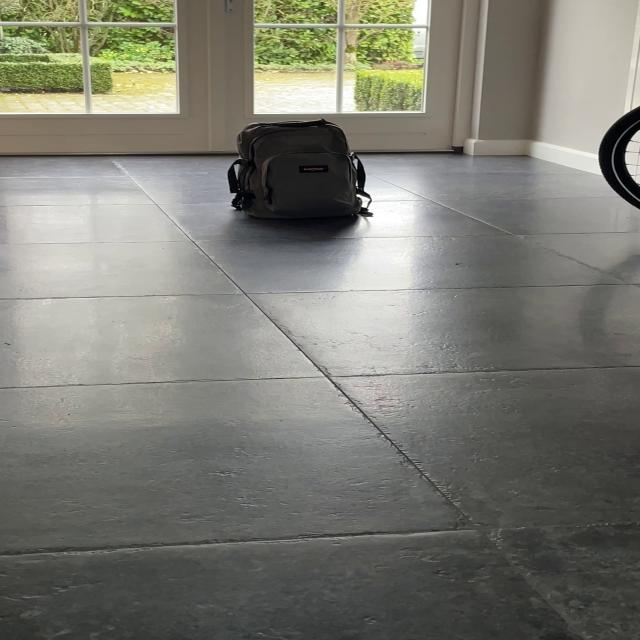backpack: (220, 114, 372, 226)
